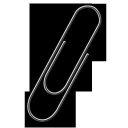Metal: (27, 0, 104, 128)
